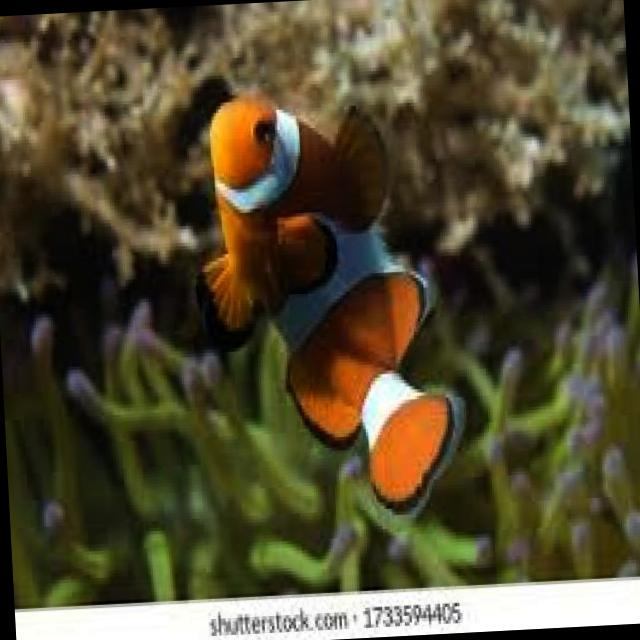ClownFish: (184, 81, 473, 528)
